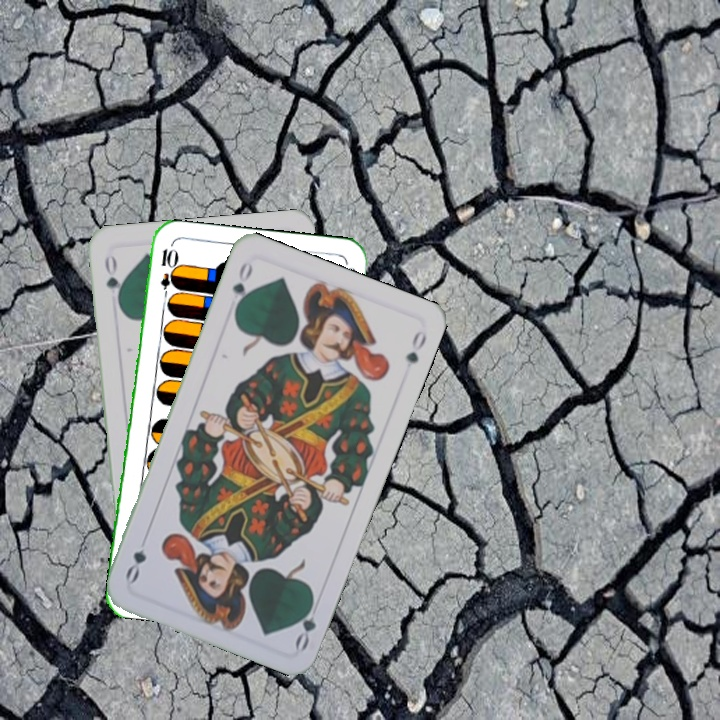E10: (156, 244, 175, 304)
GO: (291, 593, 323, 653), (228, 258, 256, 315), (101, 251, 125, 309)
